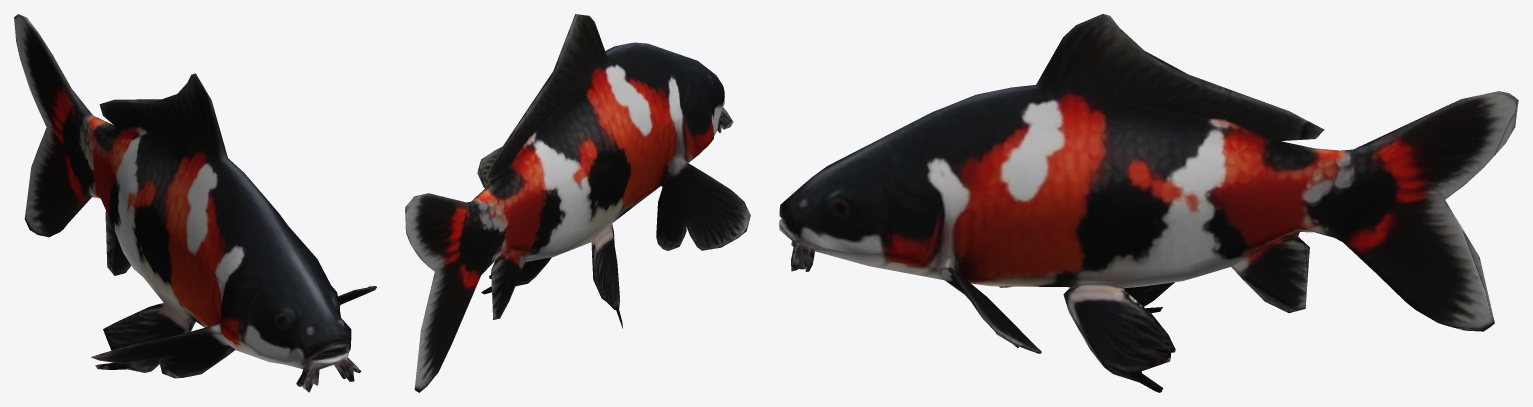
The model's file is koi-showa_lo.glb.
3 views of the same model, side by side, from view 1: azimuth 30°, elevation 25°; view 2: azimuth 150°, elevation 25°; view 3: azimuth 270°, elevation 25° (orthographic). The views are drawn at different scales.
Parts seen in each view (by area): view 1: geometry_0; view 2: geometry_0; view 3: geometry_0.
Part boxes in pixels (x1,y1,x2,y2): geometry_0: (14,14,376,392); geometry_0: (405,14,750,392); geometry_0: (779,14,1518,392).
Bounding box in the file's own units: 0.5051 × 0.5048 × 0.9979.
1 material, 1 textured.
